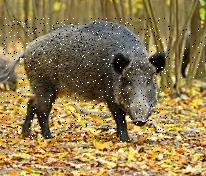Hog: (0, 18, 170, 142), (180, 28, 206, 82), (0, 54, 19, 90)
